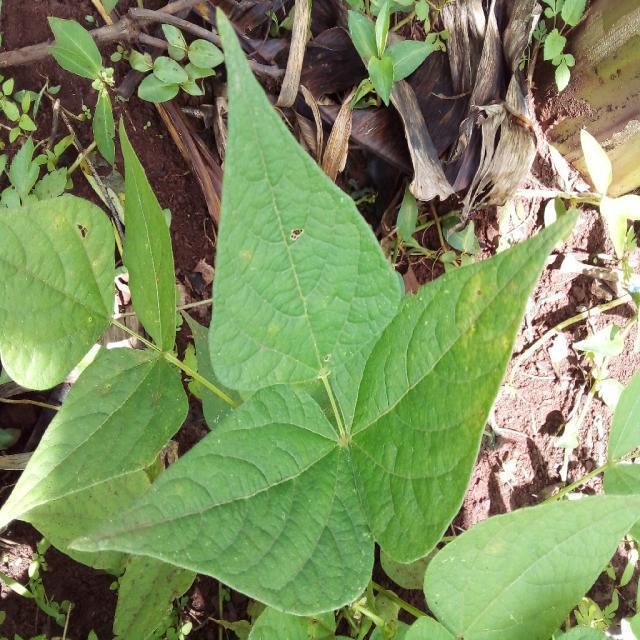hawar: (188, 443, 453, 595)
